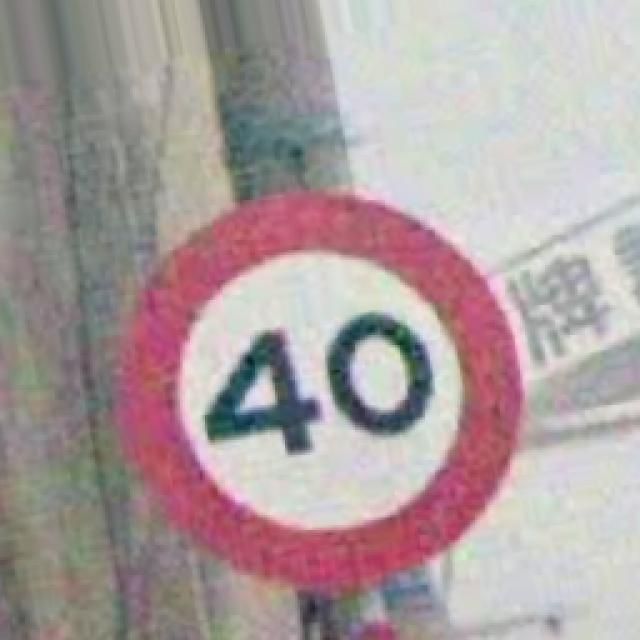Speed Limit -40-: (120, 192, 520, 586)
